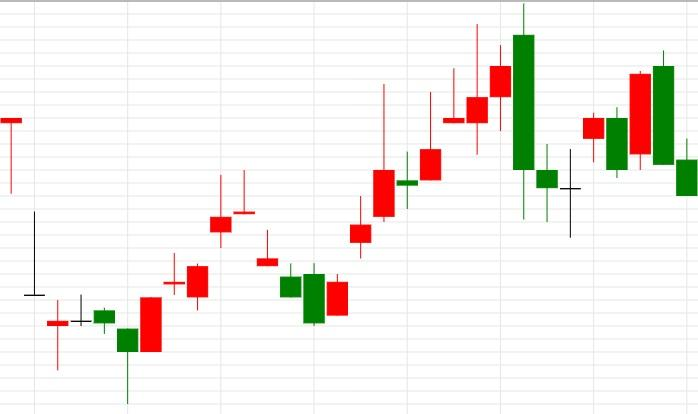bearish_engulfing_fall: (302, 3, 535, 326)
hammer_rise: (0, 117, 139, 404)
three_white_soldiers_rise: (233, 84, 395, 326)
